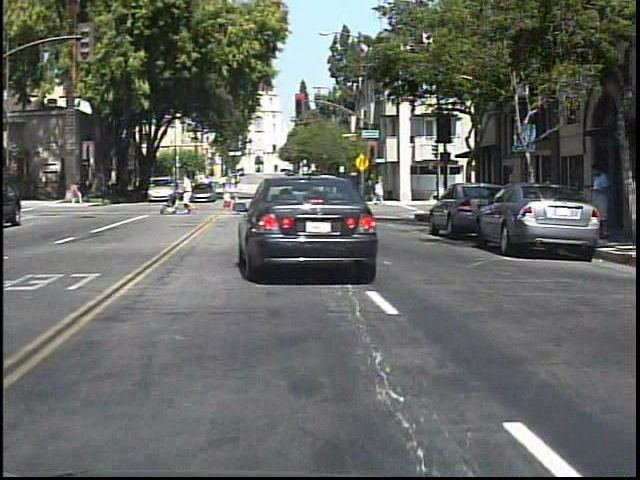person: (588, 160, 618, 243), (182, 172, 204, 219), (73, 175, 89, 207), (113, 174, 114, 204)
